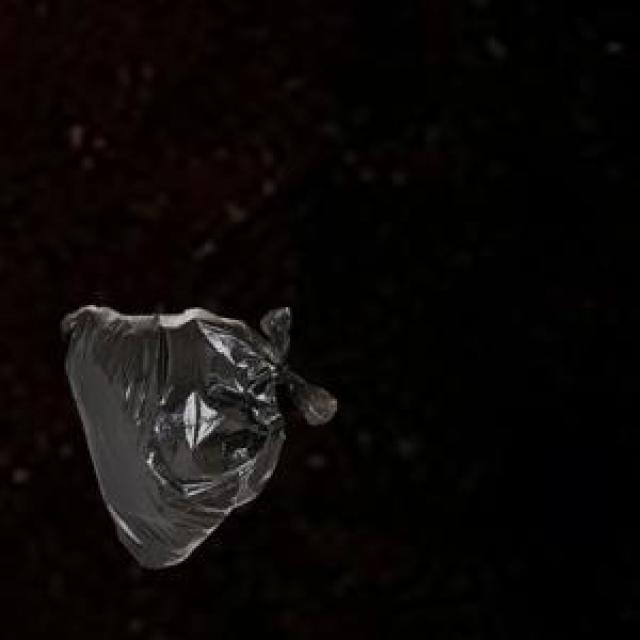miscellaneous trash: (58, 301, 333, 563)
